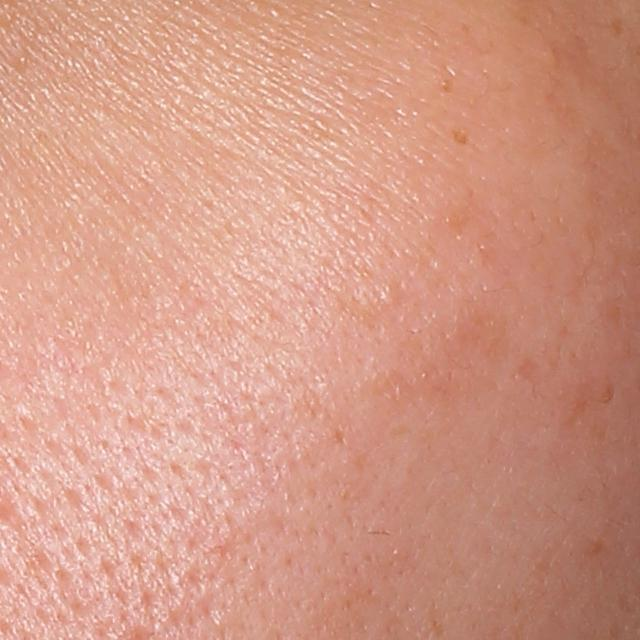melasma: (607, 14, 628, 39), (448, 127, 470, 147), (439, 76, 457, 97)
